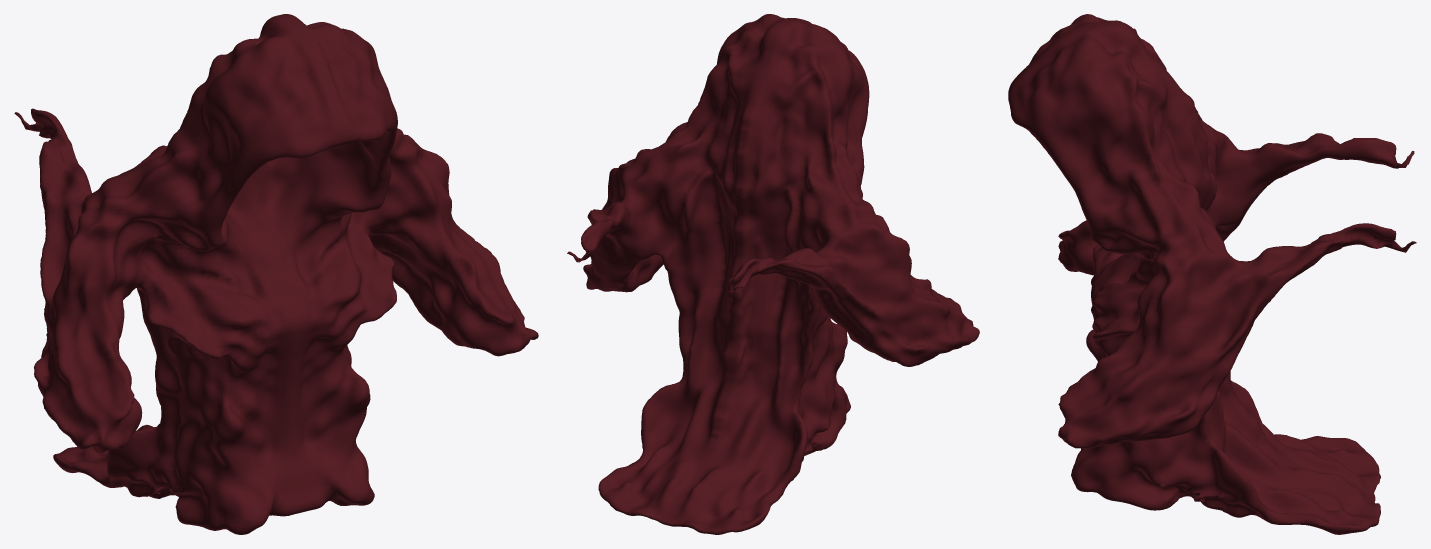
File: Alternate Summoner.fbx
3 views of the same model, side by side, from view 1: azimuth 30°, elevation 25°; view 2: azimuth 150°, elevation 25°; view 3: azimuth 270°, elevation 25° (orthographic). The views are drawn at different scales.
Visible parts, largest first — view 1: Alternate Summoner.001; view 2: Alternate Summoner.001; view 3: Alternate Summoner.001.
Boxes of the visible parts, x1,y1,x2,y2 form: Alternate Summoner.001: (14, 14, 538, 534); Alternate Summoner.001: (567, 14, 979, 534); Alternate Summoner.001: (1008, 14, 1416, 534).
Size of the model in its own units: 805 by 882 by 683.
